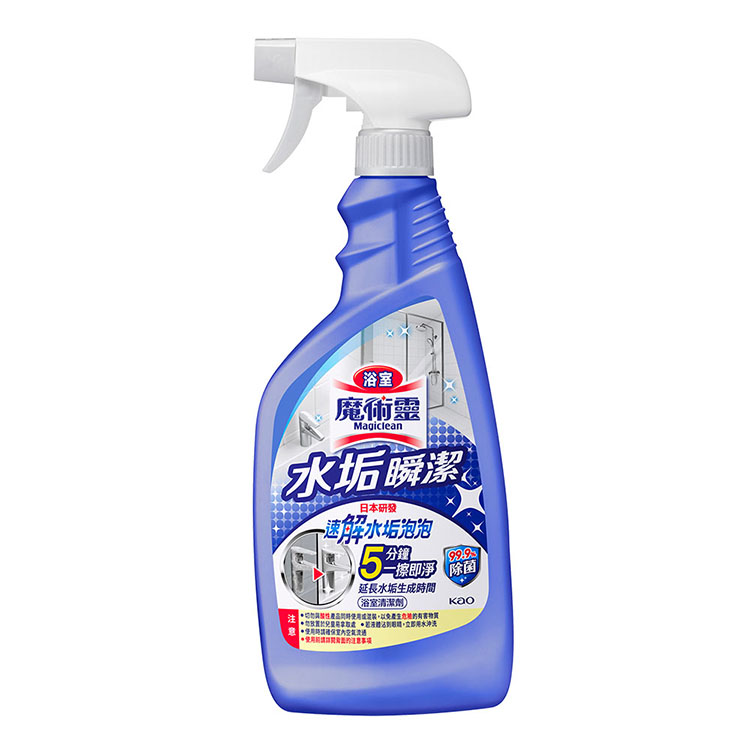cleaner: (240, 37, 519, 720)
